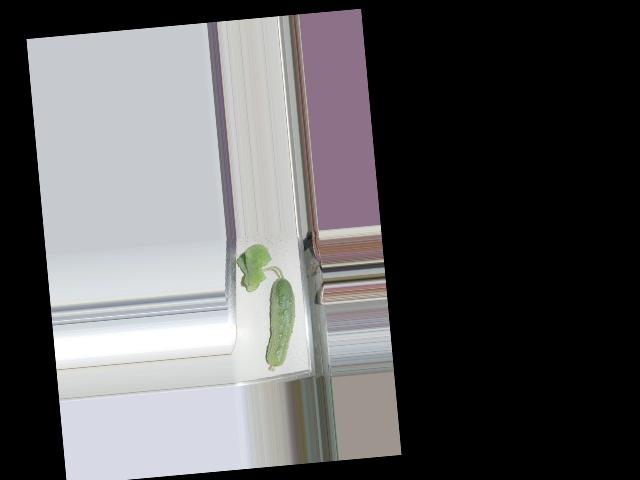cucumber: (258, 276, 300, 372)
